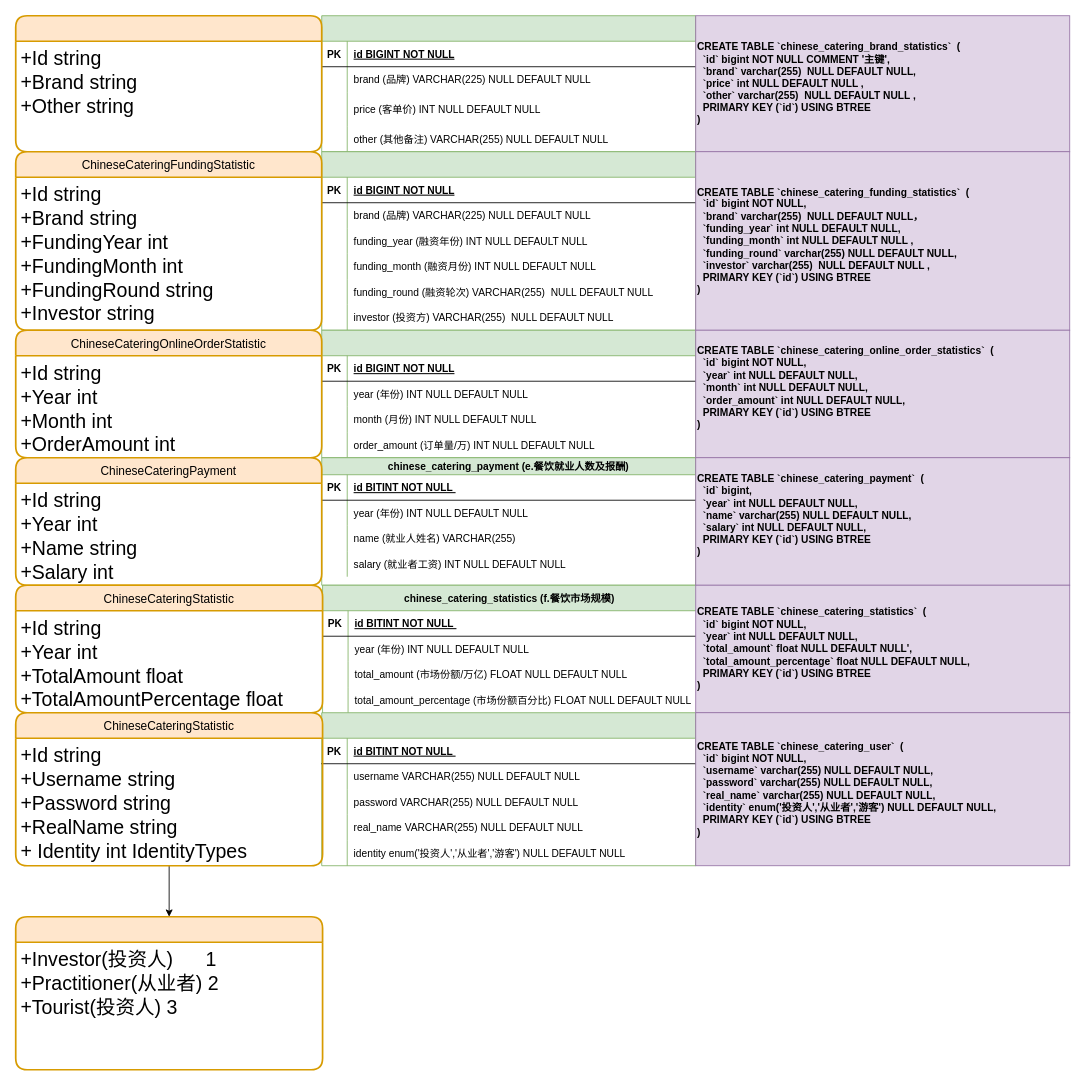
Some shapes in this 1085 by 1085 pixel diagram are drawn without their labels. The box of each missing label's shape, as (x1, y1, x2, y2) in pixels:
chinese_catering_brand_statistics (a.中国火锅品牌数据): (321, 15, 696, 152)
chinese_catering_funding_statistics (c.预制菜融资表): (321, 151, 696, 330)
chinese_catering_online_order_statistics (d.餐饮线上订单数): (321, 329, 696, 458)
chinese_catering_user (g.用户表): (321, 712, 696, 866)
ChineseCateringBrandStatistic: (14, 14, 322, 152)
IdentityTypes: (14, 915, 323, 1070)
